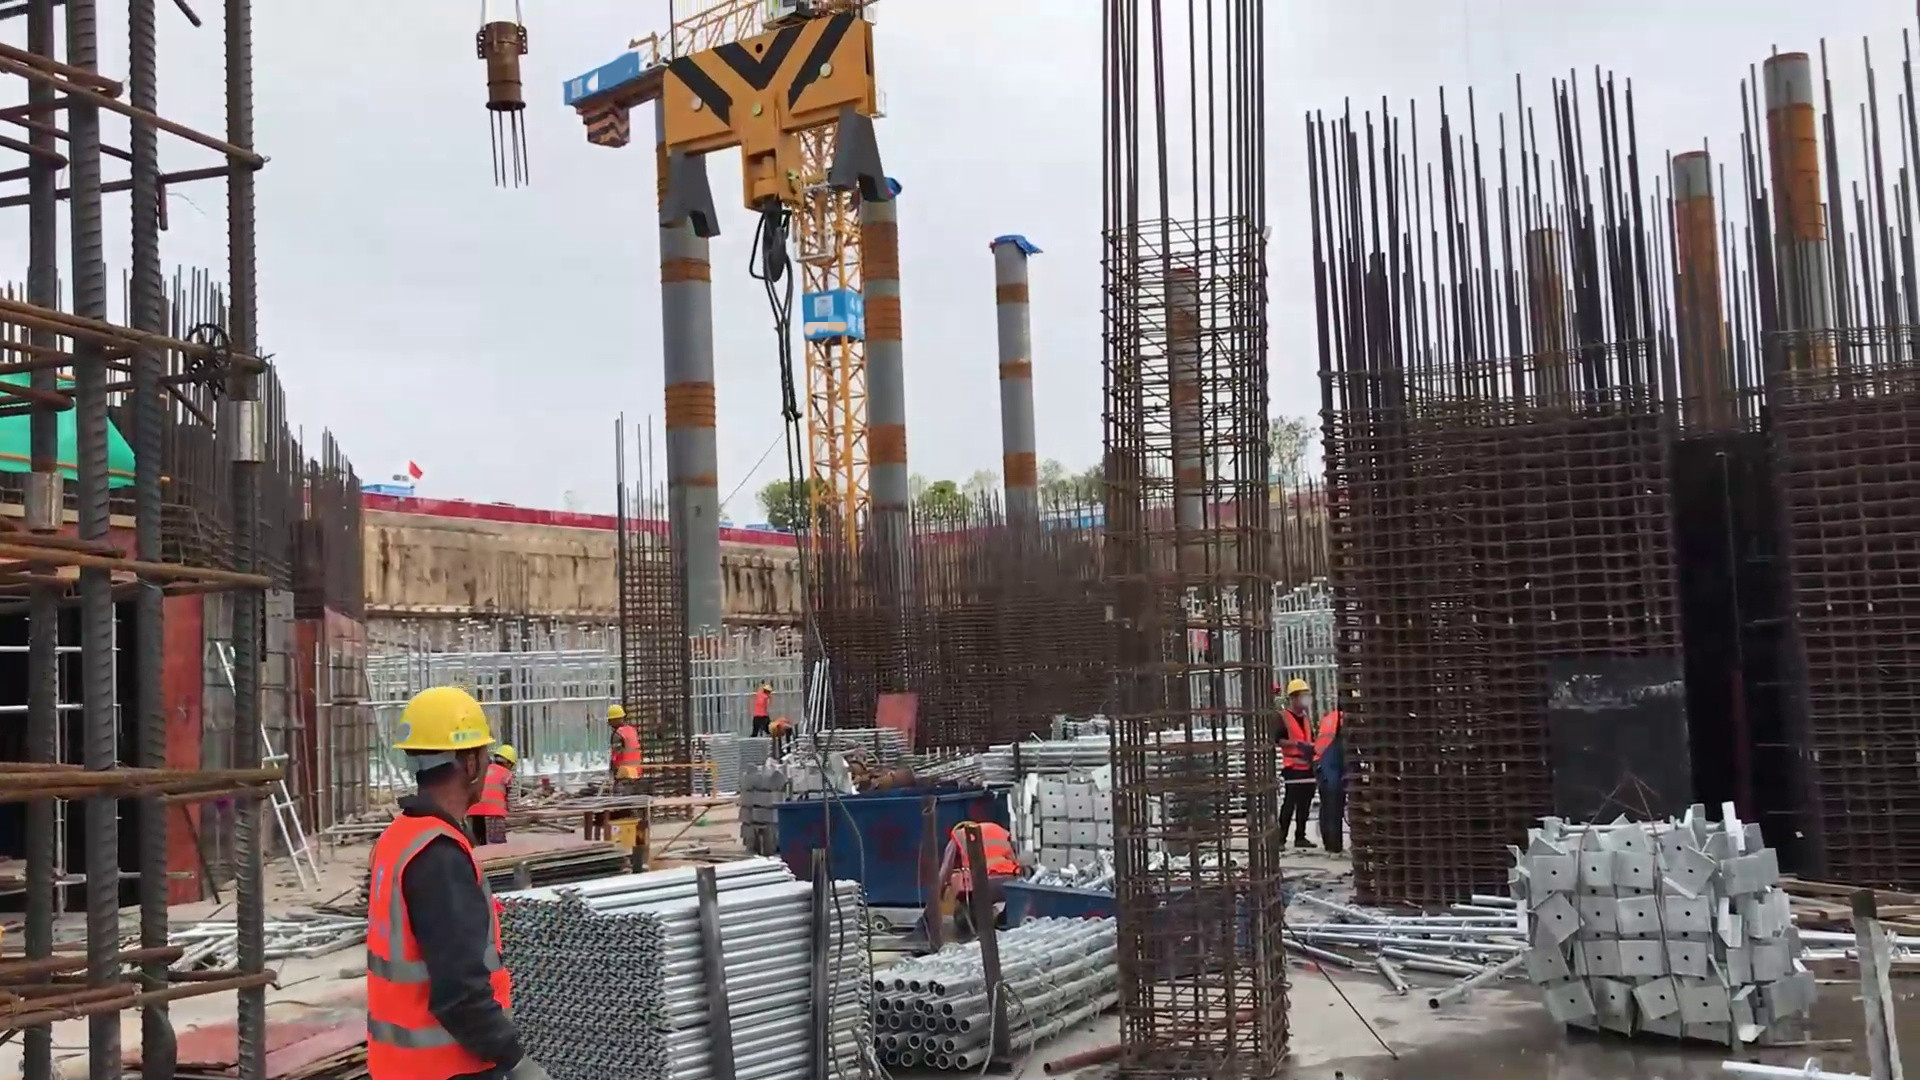person: (357, 681, 549, 1080), (939, 815, 1022, 923), (388, 680, 496, 759), (467, 738, 529, 851), (1274, 676, 1317, 833), (1311, 705, 1351, 859), (603, 698, 649, 798), (749, 680, 776, 737), (492, 743, 528, 769), (1282, 677, 1313, 701), (600, 705, 631, 726), (760, 679, 776, 697)
vest: (357, 812, 521, 1080), (949, 822, 1021, 894), (1276, 705, 1315, 779), (471, 770, 521, 825), (1313, 709, 1351, 768), (610, 726, 646, 787), (751, 694, 771, 723)
